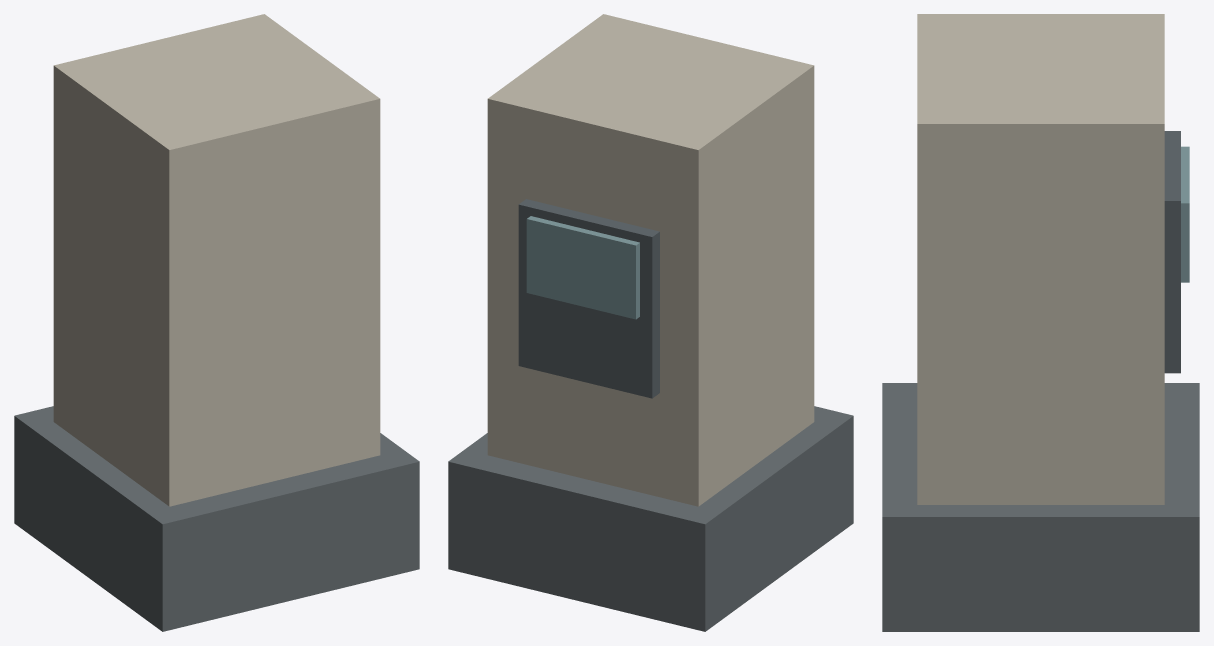
The model's file is iz3_environment_vine_01.glb.
3 renders of one model, left to right at view 1: azimuth 30°, elevation 25°; view 2: azimuth 150°, elevation 25°; view 3: azimuth 270°, elevation 25°, orthographic. The views are drawn at different scales.
Visible parts, largest first — view 1: cabinet, base; view 2: cabinet, base, panel, display; view 3: cabinet, base, panel, display.
Part boxes in pixels (x1=…): cabinet: x1=53, y1=14, x2=380, y2=506; base: x1=14, y1=406, x2=419, y2=631; cabinet: x1=487, y1=14, x2=814, y2=506; base: x1=448, y1=406, x2=853, y2=631; panel: x1=518, y1=199, x2=659, y2=398; display: x1=526, y1=216, x2=639, y2=319; cabinet: x1=917, y1=14, x2=1164, y2=504; base: x1=882, y1=383, x2=1199, y2=631; panel: x1=1164, y1=131, x2=1180, y2=373; display: x1=1181, y1=146, x2=1189, y2=282.
Size of the model in its own units: 0.8 by 1.38 by 0.8.
